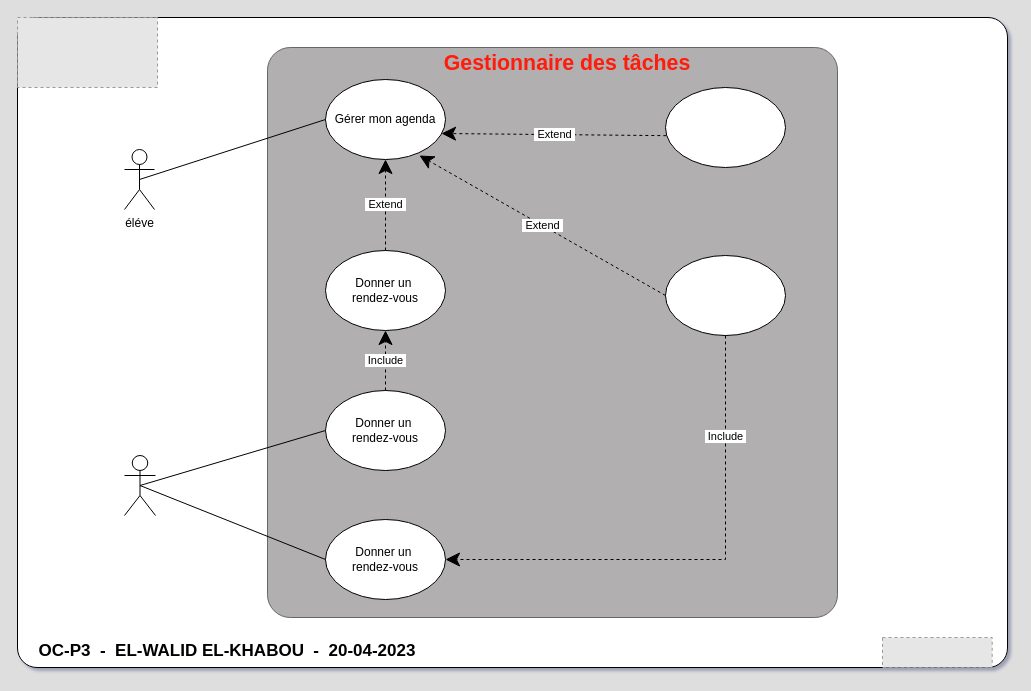
Image size: 1031x691. Some labels were removed from this diagram. Grey dashed boxes stand in for pictures. The shapes that lost their labels are listed below. From the top down, each one's centre as x and y in pixels, then its label:
pixel 725 127: Créer un évènement ou rendez vous
pixel 725 295: Supprimer un évènement ou rendez vous
pixel 140 485: tuteur
